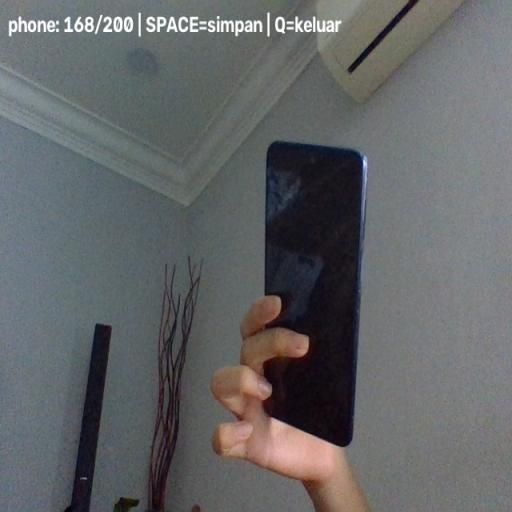Phone: (262, 139, 368, 448)
